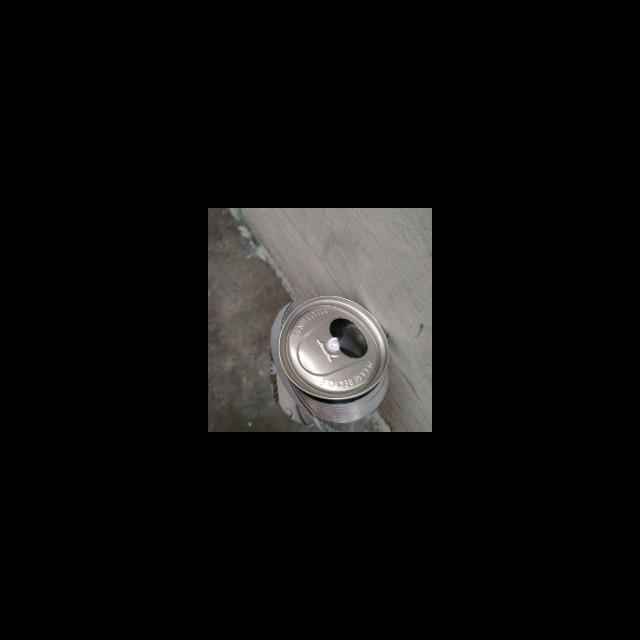metal: (257, 290, 394, 432)
